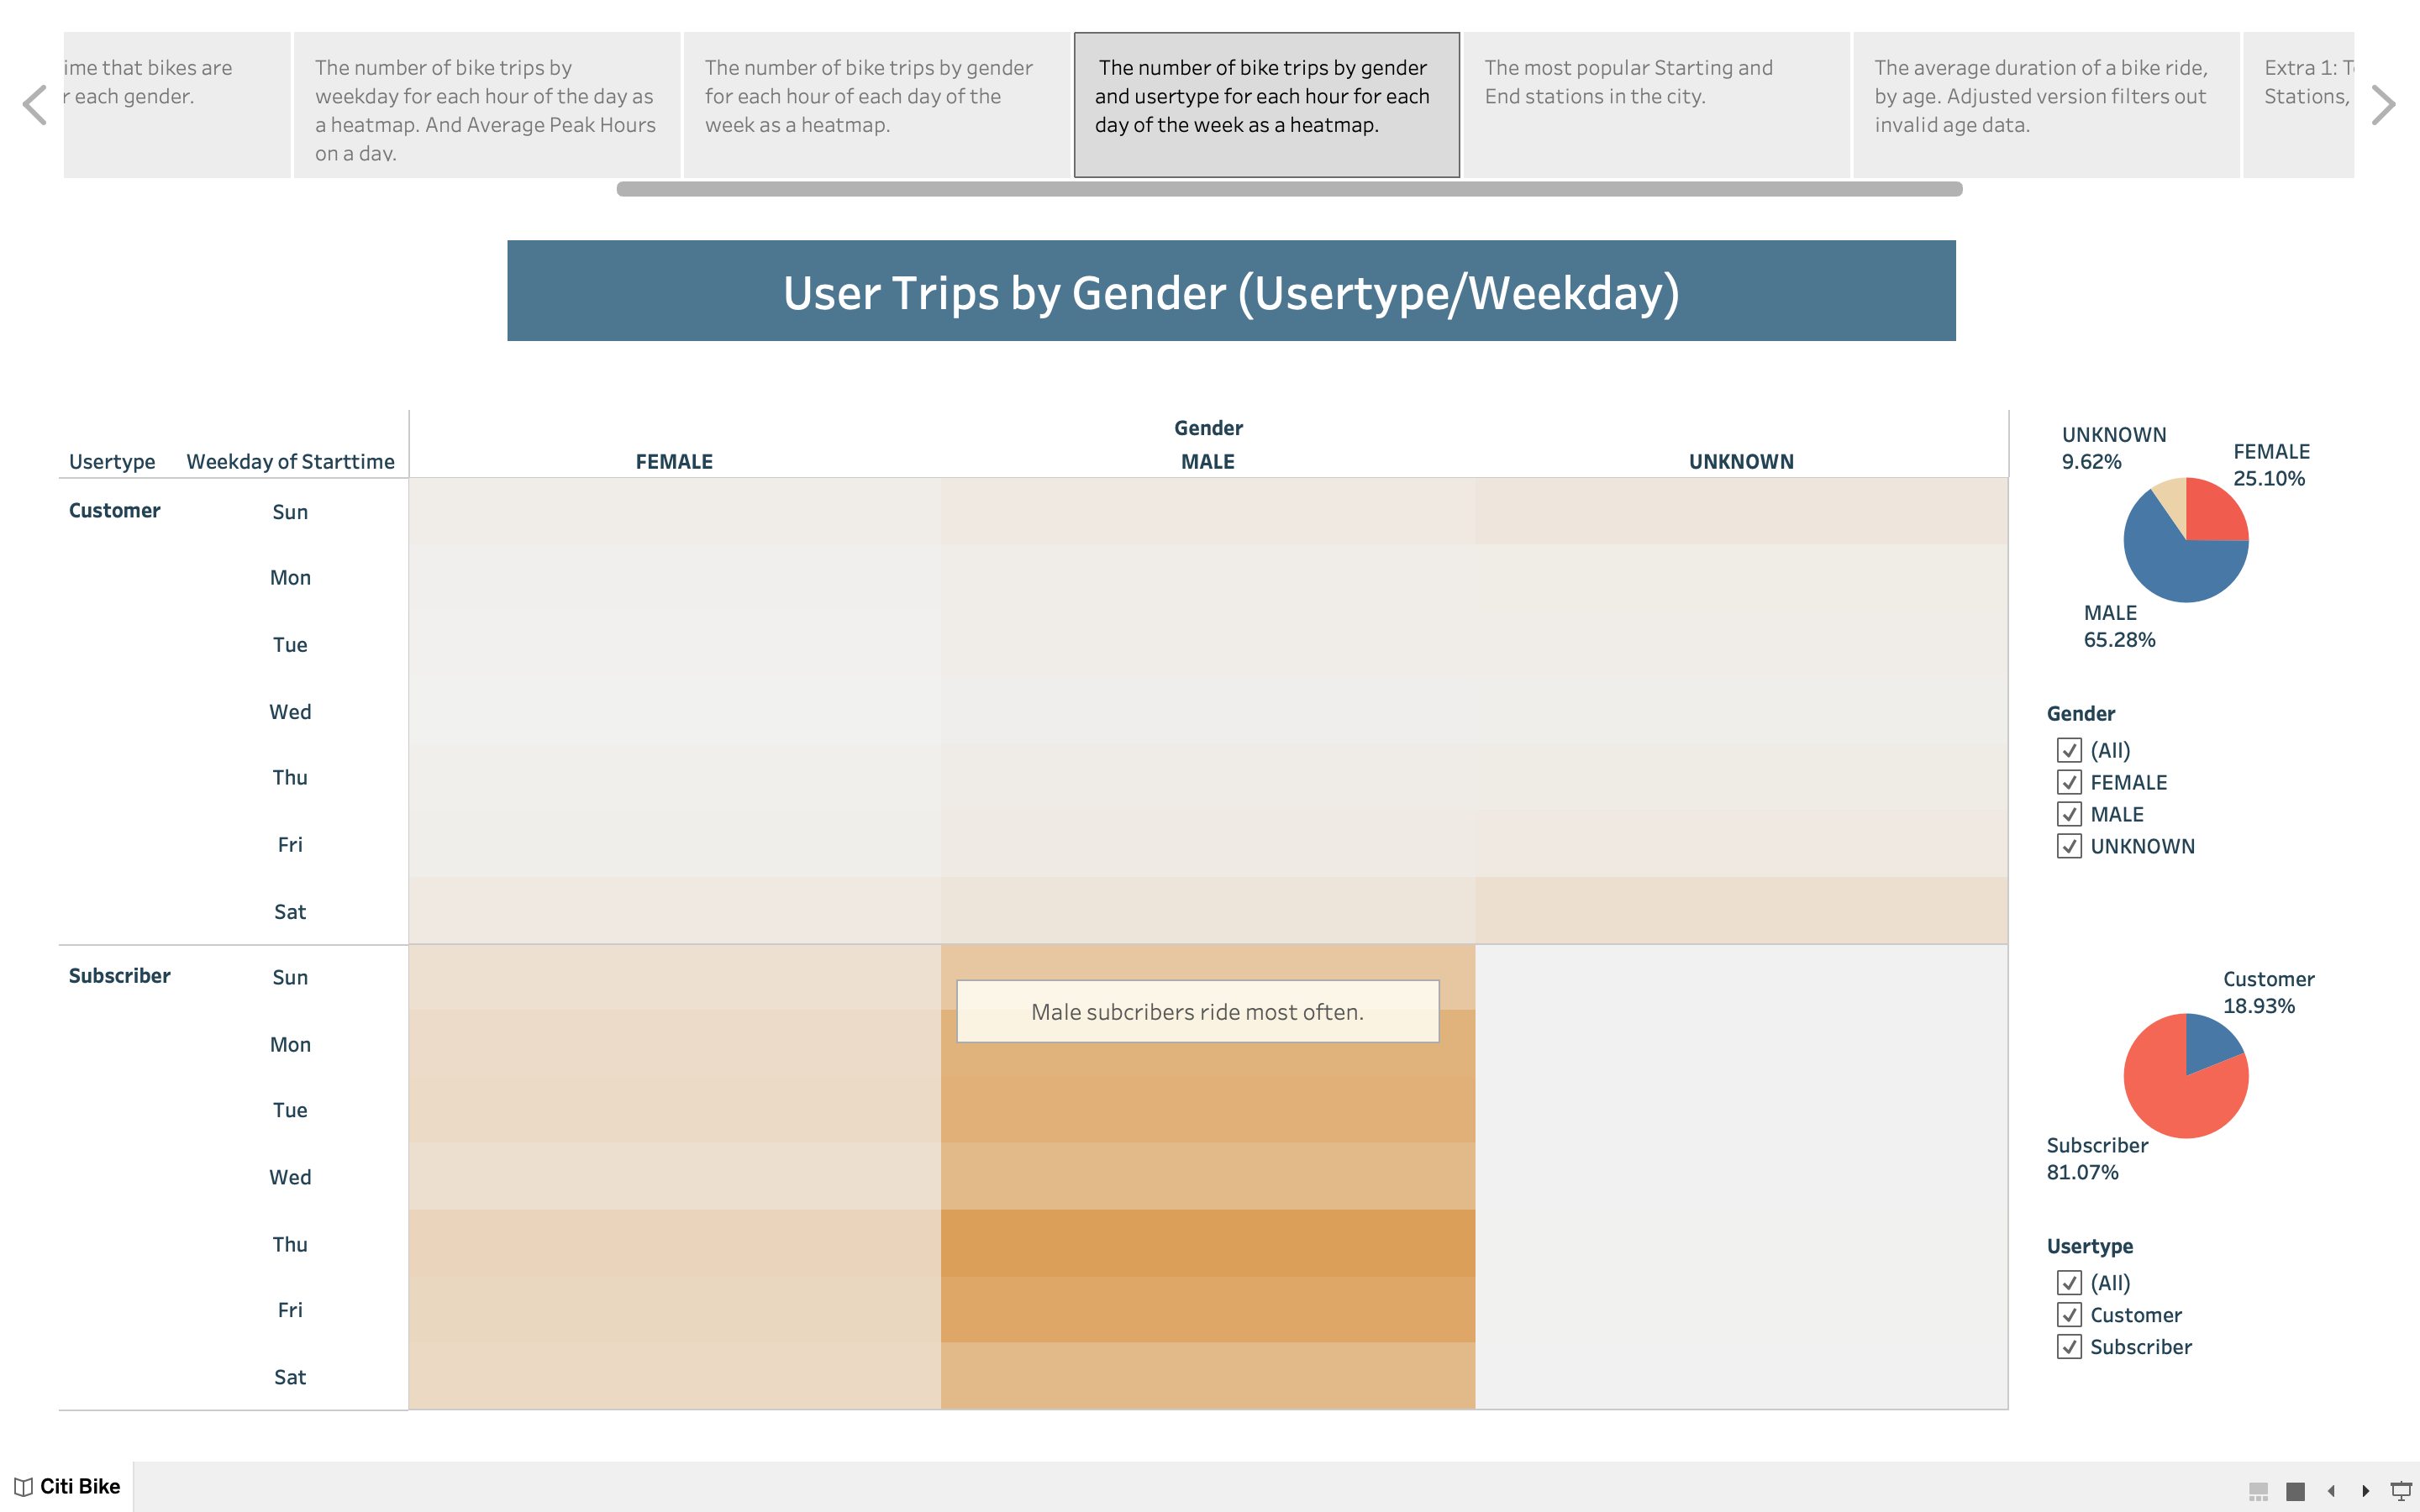

This screenshot's page, from the dashboard's own definition file:
{"tool":"tableau","page":{"name":"6. User Trips by Gender (weekday)","canvas":[1000,1000],"units":"permille","ordinal":6},"visuals":[{"type":"text","box":[206.2,22.9,605.5,81.7]},{"type":"worksheet","title":"User Trips by Gender","mark":"Automatic","rows":["usertype","starttime"],"cols":["Calculation_839147291479838720"],"box":[19,160,815,810]},{"type":"worksheet","title":"6. Gender Breakdown","mark":"Pie","box":[837.8,164.8,140.2,202]},{"type":"filter","title":"User Trips by Gender","param":"[federated.0nasni4076z4p817vrrgc1y5v76k].[none:Calculation_839147291479838720:nk","box":[850,394,140.2,186.2]},{"type":"worksheet","title":"2. Customers","mark":"Pie","box":[837.8,597.4,140.2,202]},{"type":"filter","title":"User Trips by Gender","param":"[federated.0nasni4076z4p817vrrgc1y5v76k].[none:usertype:nk]","box":[850,825.2,140.2,147.6]}]}

Visuals, with their boxes on the dashboard's canvas, which has no fixed pixel size, in thousandths of its width and height (x1, y1, x2, y2). These are canvas units, not pixel positions in the 2420x1512 screenshot, which may show the page scaled, cropped or inside an application window:
text: detection(206, 23, 812, 105)
"User Trips by Gender" worksheet: detection(19, 160, 834, 970)
"6. Gender Breakdown" worksheet (Pie marks): detection(838, 165, 978, 367)
"User Trips by Gender" filter: detection(850, 394, 990, 580)
"2. Customers" worksheet (Pie marks): detection(838, 597, 978, 799)
"User Trips by Gender" filter: detection(850, 825, 990, 973)
